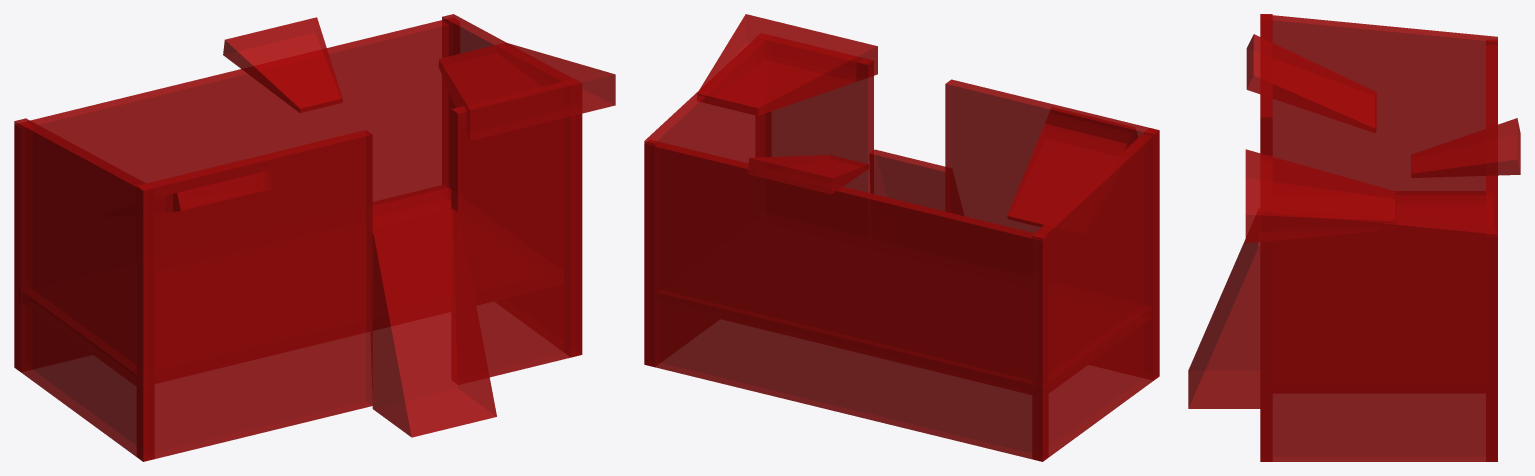
File: SM_Bld_Plywood_Shed_Small_Destroyed_01_Collision.fbx
3 views of the same model, side by side, from view 1: azimuth 30°, elevation 25°; view 2: azimuth 150°, elevation 25°; view 3: azimuth 270°, elevation 25° (orthographic). The views are drawn at different scales.
Visible parts, largest first — view 1: SM_Bld_Plywood_Shed_Small_Destroyed_01_Collision; view 2: SM_Bld_Plywood_Shed_Small_Destroyed_01_Collision; view 3: SM_Bld_Plywood_Shed_Small_Destroyed_01_Collision.
Boxes of the visible parts, x1,y1,x2,y2 form: SM_Bld_Plywood_Shed_Small_Destroyed_01_Collision: [14, 14, 615, 461]; SM_Bld_Plywood_Shed_Small_Destroyed_01_Collision: [644, 14, 1159, 461]; SM_Bld_Plywood_Shed_Small_Destroyed_01_Collision: [1188, 14, 1520, 461].
Bounding box in the file's own units: 627 × 366 × 421.
